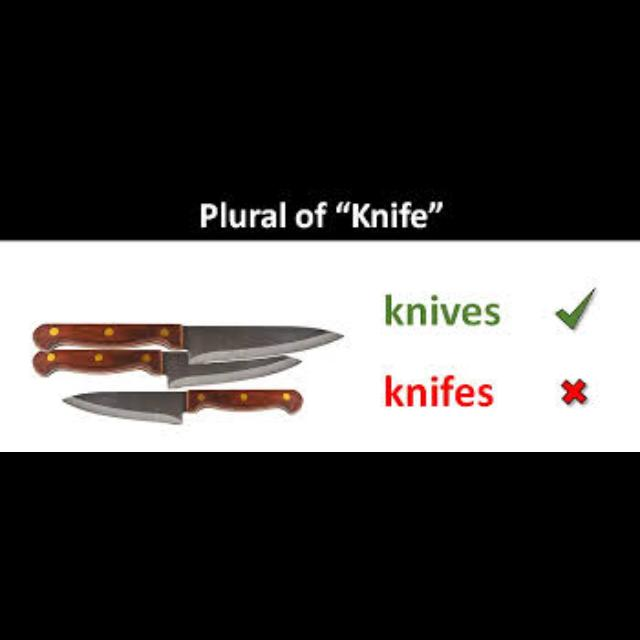knife: (31, 347, 301, 385), (31, 322, 343, 354), (61, 388, 302, 422)
